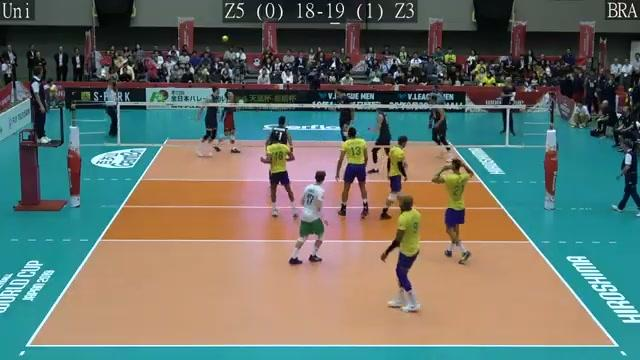ball: (220, 33, 230, 42)
